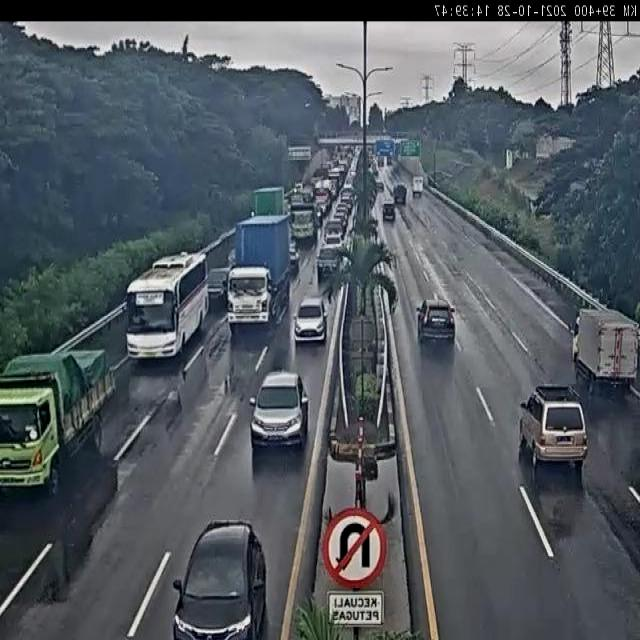Bus: (124, 248, 208, 360)
Car: (171, 520, 268, 638), (519, 384, 589, 472), (249, 366, 309, 452), (418, 300, 456, 346), (293, 296, 327, 342), (316, 246, 342, 282), (324, 221, 344, 246)
Truck: (1, 348, 112, 500), (227, 214, 292, 333), (573, 309, 639, 399), (247, 185, 295, 274), (288, 188, 317, 245)
